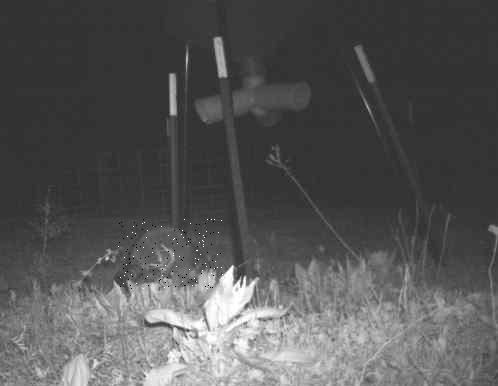Raccoon: (118, 220, 223, 290)
